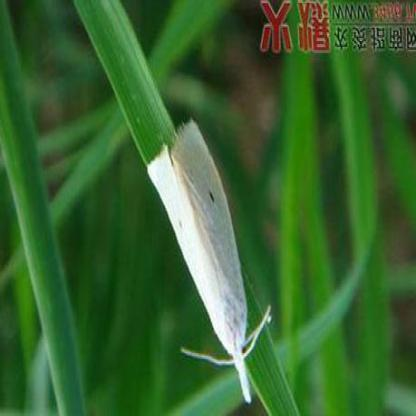stem-borer: (144, 116, 274, 405)
